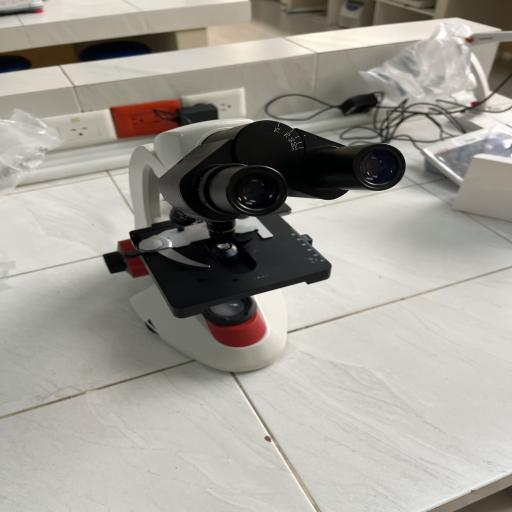Microscopio_Binocular: (88, 111, 425, 389)
